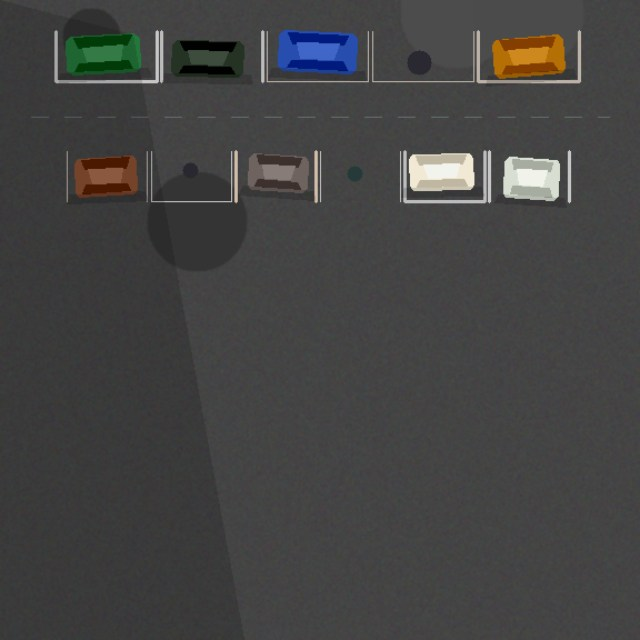space-empty: (372, 31, 473, 81), (151, 151, 231, 201), (320, 151, 400, 201)
space-occupied: (56, 31, 157, 81), (161, 31, 262, 81), (267, 31, 368, 81), (478, 31, 579, 81), (67, 151, 147, 201), (236, 151, 316, 201), (404, 151, 484, 201), (489, 151, 569, 201)
